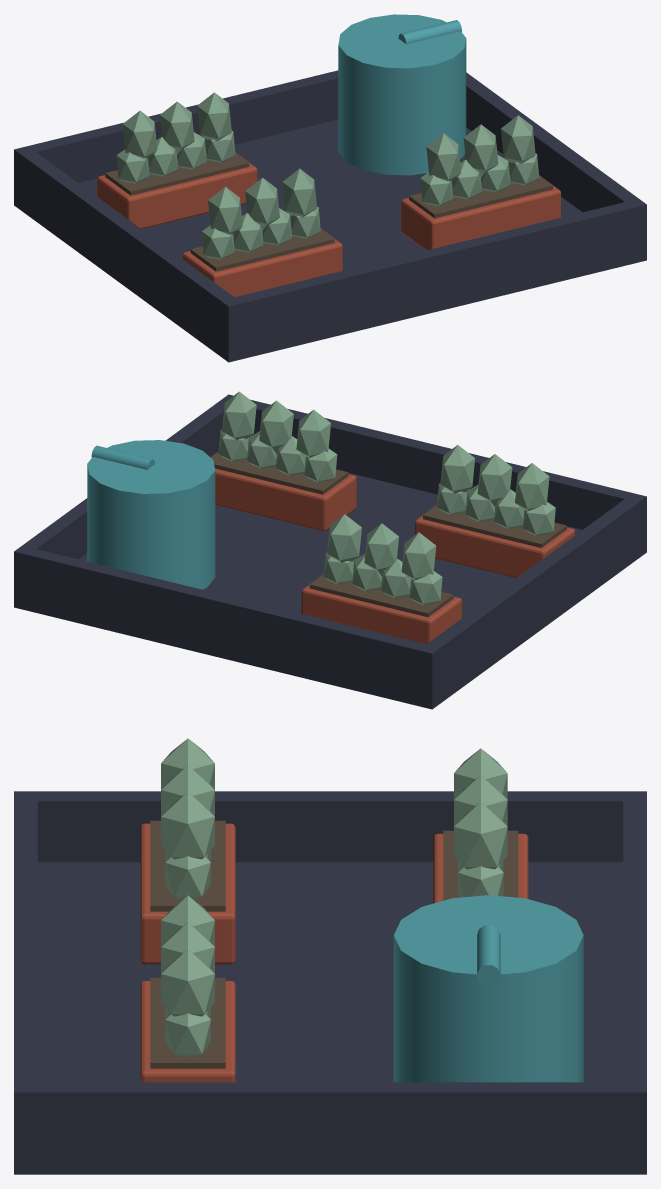
File: roof_garden_banks.glb
3 renders of one model, top to bottom at view 1: azimuth 30°, elevation 25°; view 2: azimuth 150°, elevation 25°; view 3: azimuth 270°, elevation 25°, orthographic. The views are drawn at different scales.
Parts seen in each view (by area): view 1: roof_garden_banks ink, roof_garden_banks river, roof_garden_banks leaf, roof_garden_banks clay, roof_garden_banks soil, roof_garden_banks pine; view 2: roof_garden_banks ink, roof_garden_banks river, roof_garden_banks leaf, roof_garden_banks clay, roof_garden_banks soil, roof_garden_banks pine; view 3: roof_garden_banks ink, roof_garden_banks river, roof_garden_banks leaf, roof_garden_banks clay, roof_garden_banks soil, roof_garden_banks pine.
Boxes of the visible parts, box(x1,y1,x2,y2) form: roof_garden_banks ink: box(14, 70, 646, 362); roof_garden_banks river: box(338, 14, 466, 175); roof_garden_banks leaf: box(116, 92, 535, 259); roof_garden_banks clay: box(97, 152, 560, 297); roof_garden_banks soil: box(105, 153, 552, 271); roof_garden_banks pine: box(148, 130, 539, 252); roof_garden_banks ink: box(14, 394, 646, 709); roof_garden_banks river: box(87, 440, 215, 589); roof_garden_banks leaf: box(222, 391, 555, 605); roof_garden_banks clay: box(211, 451, 574, 644); roof_garden_banks soil: box(211, 452, 566, 617); roof_garden_banks pine: box(218, 429, 524, 598); roof_garden_banks ink: box(14, 791, 646, 1174); roof_garden_banks river: box(393, 895, 583, 1082); roof_garden_banks leaf: box(161, 738, 507, 1019); roof_garden_banks clay: box(140, 823, 528, 1082); roof_garden_banks soil: box(150, 820, 518, 1068); roof_garden_banks pine: box(165, 856, 503, 1056).
Bounding box in the file's own units: 0.9 × 0.2643 × 0.8.
